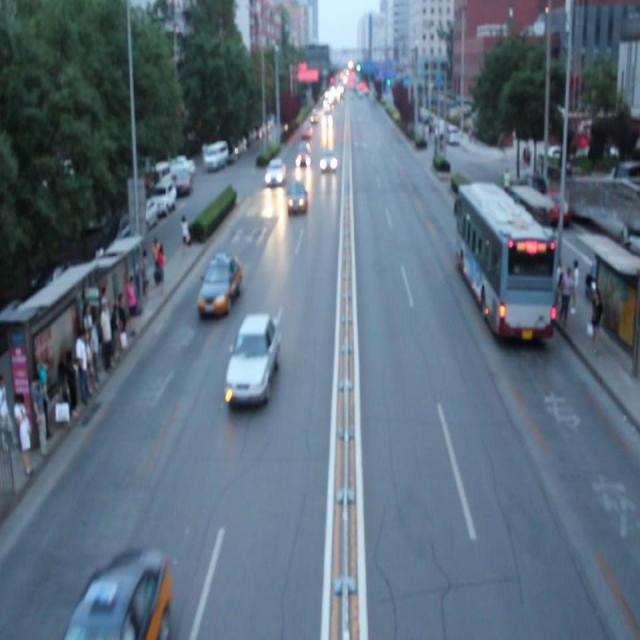car: (233, 312, 282, 411), (198, 246, 241, 319), (287, 181, 306, 216), (264, 157, 285, 188), (320, 151, 338, 174), (294, 148, 311, 171)
van: (453, 179, 554, 342)
